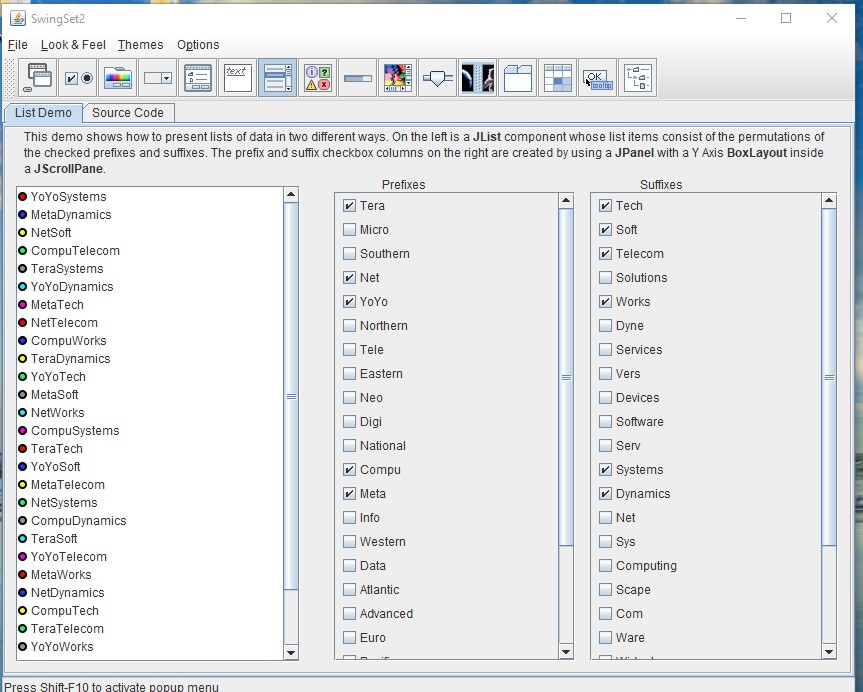CHECKBOX_CHECKED: (342, 198, 357, 213), (342, 270, 357, 285), (342, 294, 356, 309), (342, 462, 356, 477), (342, 486, 356, 501), (598, 486, 612, 501), (598, 462, 612, 477), (598, 294, 612, 309), (598, 222, 612, 237), (598, 198, 612, 213), (598, 247, 612, 261)
CHECKBOX_UNCHECKED: (342, 222, 357, 237), (342, 246, 357, 261), (597, 270, 612, 285), (342, 318, 356, 333), (342, 342, 356, 357), (342, 366, 356, 381), (342, 390, 356, 405), (342, 510, 356, 525), (342, 534, 356, 549), (342, 558, 356, 573), (342, 582, 356, 597), (342, 606, 356, 621), (342, 630, 356, 645), (598, 630, 612, 645), (598, 606, 612, 621), (598, 582, 612, 597), (598, 558, 612, 573), (598, 534, 612, 549), (598, 510, 612, 525), (597, 438, 612, 452), (598, 414, 612, 429), (598, 390, 612, 405), (598, 366, 612, 381), (598, 342, 612, 357), (598, 318, 612, 333), (342, 414, 356, 428), (342, 438, 356, 452)
IMAGEBUTTON: (215, 57, 257, 98), (256, 57, 298, 97), (416, 58, 459, 96), (298, 57, 338, 97), (575, 58, 617, 96), (97, 58, 136, 98), (377, 58, 417, 97), (57, 59, 98, 97), (495, 59, 536, 97), (137, 59, 177, 97), (19, 58, 57, 97), (338, 58, 377, 96), (618, 58, 657, 96), (178, 58, 215, 97), (457, 59, 494, 95), (538, 59, 575, 95), (813, 4, 855, 35), (769, 3, 806, 33), (723, 4, 758, 31)
SCROLLBAR_VERTICAL: (283, 186, 301, 660), (820, 191, 838, 659), (559, 192, 575, 659)
SCROLLBAR_VERTICAL_BAR: (283, 203, 300, 590), (557, 209, 575, 547), (823, 208, 837, 545)
SCROLLBAR_VERTICAL_HANDLE_DOWN: (283, 645, 300, 661), (821, 643, 838, 659), (558, 644, 575, 659)
SCROLLBAR_VERTICAL_HANDLE_UP: (820, 190, 838, 210), (282, 185, 300, 203), (559, 192, 575, 209)
